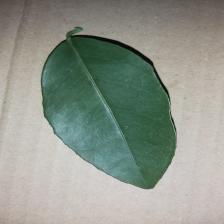healthy: (38, 36, 180, 190)
